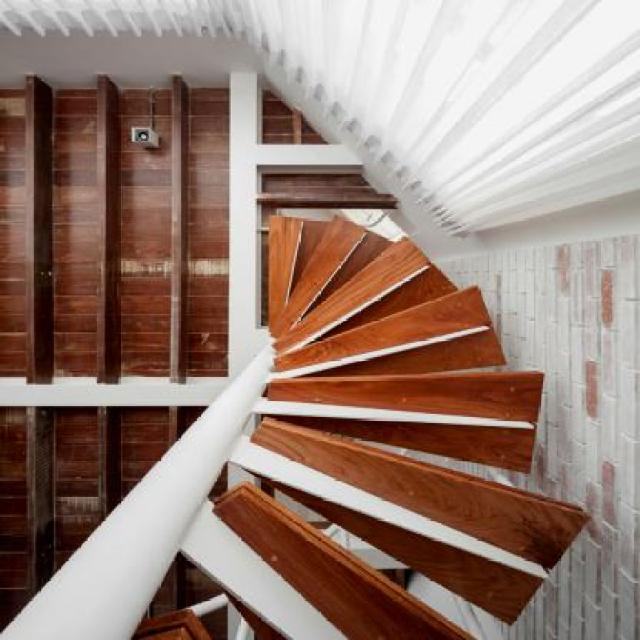stair: (56, 208, 604, 640)
